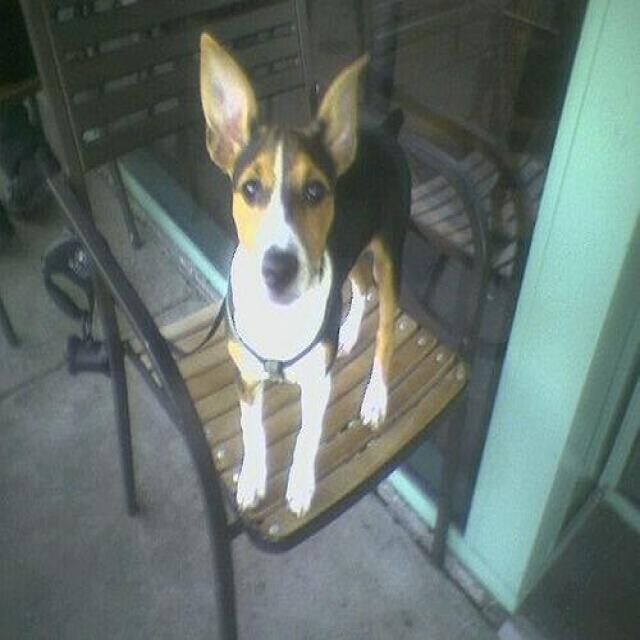toy_terrier: (197, 26, 412, 516)
